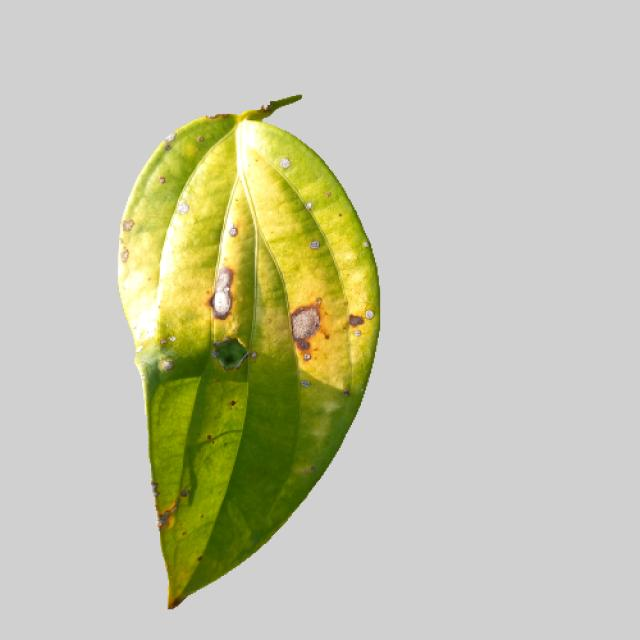leaf-blight: (100, 104, 389, 608)
